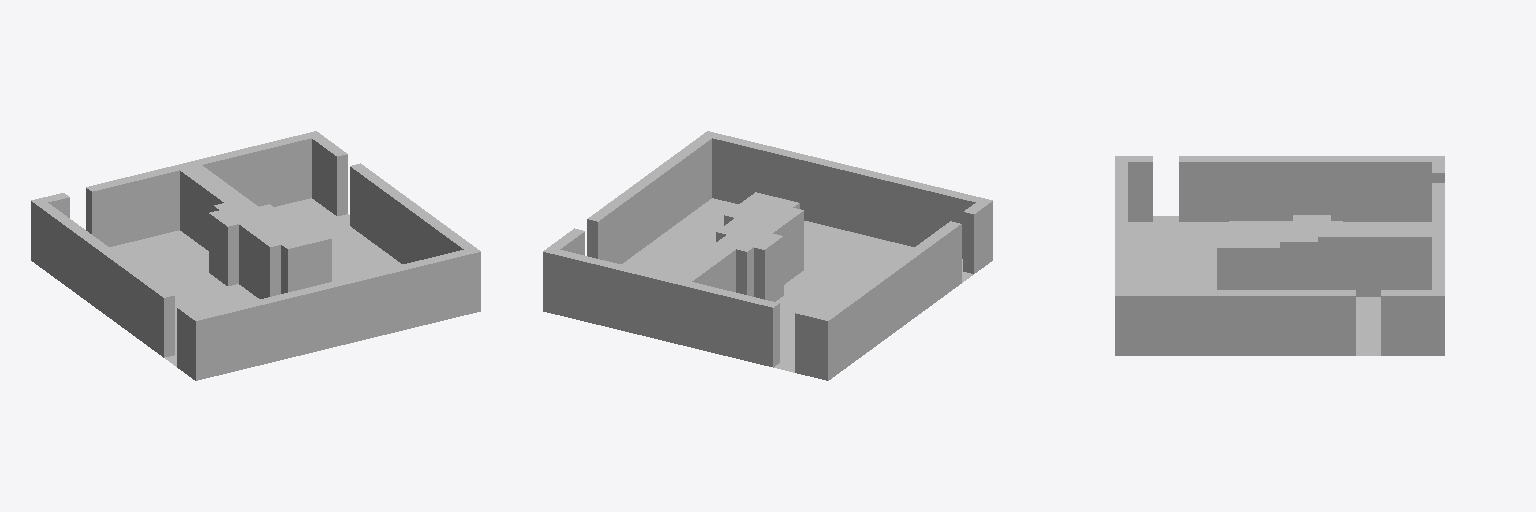
File: BasicHall1.obj
3 renders of one model, left to right at view 1: azimuth 30°, elevation 25°; view 2: azimuth 150°, elevation 25°; view 3: azimuth 270°, elevation 25°, orthographic.
Visible parts, largest first — view 1: Plane.001; view 2: Plane.001; view 3: Plane.001.
Part boxes in pixels (x1,y1,x2,y2): Plane.001: (31, 131, 480, 380); Plane.001: (543, 131, 992, 380); Plane.001: (1115, 156, 1444, 355).
Size of the model in its own units: 20 by 4 by 20.